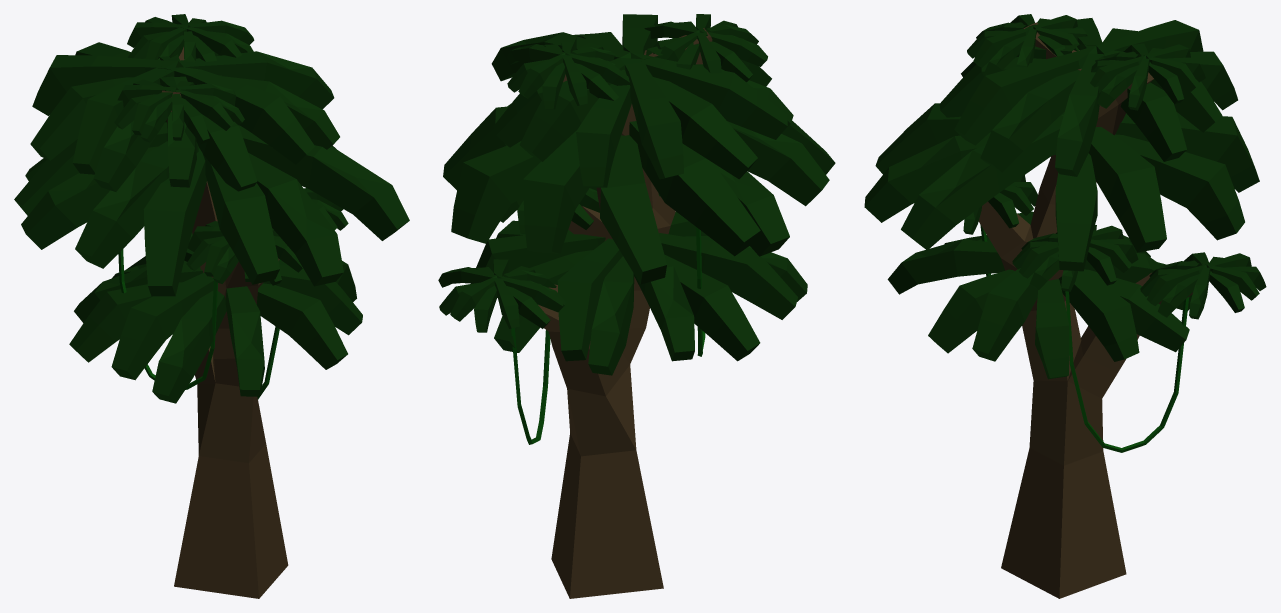
Rendered from jungleTree1.fbx.
3 views of the same model, side by side, from view 1: azimuth 30°, elevation 25°; view 2: azimuth 150°, elevation 25°; view 3: azimuth 270°, elevation 25° (orthographic). The views are drawn at different scales.
Visible parts, largest first — view 1: Trunk, Cube.013, Cube.011, Cube.014, Cube.016, Cube.015, Cube.012, Cube.009, Cube.007, Cube.010, Cube.008, Cube.003 (+2 smaller); view 2: Trunk, Cube.013, Cube.011, Cube.015, Cube.014, Cube.016, Cube.012, Cube.005, Cube.007, Cube.009, Cube.006, Cube.008 (+3 smaller); view 3: Trunk, Cube.013, Cube.014, Cube.011, Cube.015, Cube.012, Cube.016, Cube.005, Cube.007, Cube.009, Cube.006, Cube.001 (+6 smaller).
Part boxes in pixels (x1,y1,x2,y2): Trunk: [162, 47, 288, 598]; Cube.013: [14, 120, 409, 284]; Cube.011: [32, 51, 334, 187]; Cube.014: [21, 145, 343, 296]; Cube.016: [69, 260, 356, 403]; Cube.015: [74, 236, 362, 396]; Cube.012: [30, 42, 339, 191]; Cube.009: [117, 76, 236, 140]; Cube.007: [127, 14, 254, 62]; Cube.010: [114, 79, 244, 143]; Cube.008: [128, 17, 253, 75]; Cube.003: [187, 226, 302, 281]; Trunk: [538, 28, 712, 598]; Cube.013: [443, 106, 829, 256]; Cube.011: [491, 14, 787, 179]; Cube.015: [470, 211, 797, 361]; Cube.014: [451, 104, 835, 284]; Cube.016: [494, 220, 807, 375]; Cube.012: [493, 32, 793, 187]; Cube.005: [438, 259, 563, 328]; Cube.007: [506, 36, 629, 105]; Cube.009: [644, 14, 765, 73]; Cube.006: [439, 266, 565, 332]; Cube.008: [507, 43, 626, 109]; Trunk: [978, 22, 1192, 598]; Cube.013: [875, 103, 1259, 252]; Cube.014: [864, 112, 1244, 271]; Cube.011: [954, 18, 1222, 176]; Cube.015: [887, 211, 1192, 361]; Cube.012: [939, 28, 1237, 172]; Cube.016: [928, 225, 1189, 379]; Cube.005: [1146, 252, 1259, 319]; Cube.007: [1090, 43, 1198, 110]; Cube.009: [973, 14, 1079, 67]; Cube.006: [1140, 256, 1266, 317]; Cube.001: [1019, 225, 1131, 291].
Size of the model in its own units: 450 by 711 by 504.
